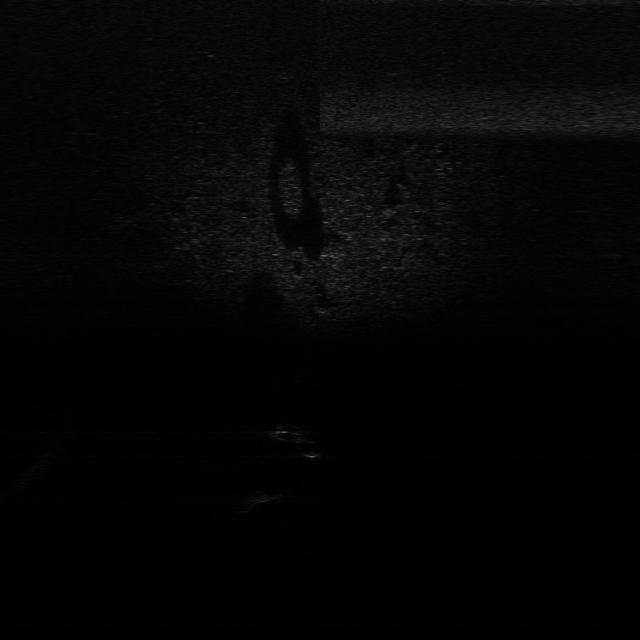ball: (296, 442, 330, 460)
square cage: (240, 488, 290, 508)
tyre: (270, 423, 306, 444)
